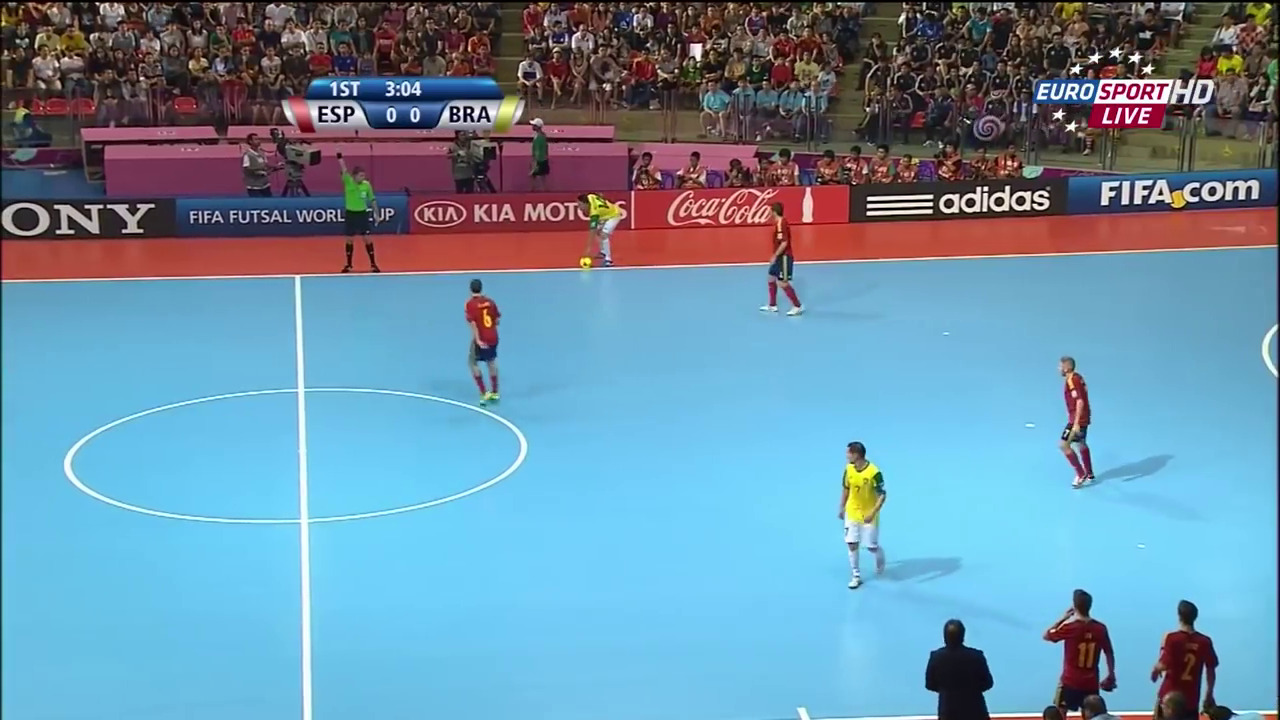ball: (578, 252, 589, 269)
person: (826, 442, 891, 596), (1046, 355, 1105, 490), (755, 201, 809, 320), (457, 278, 505, 410), (571, 194, 617, 266)
